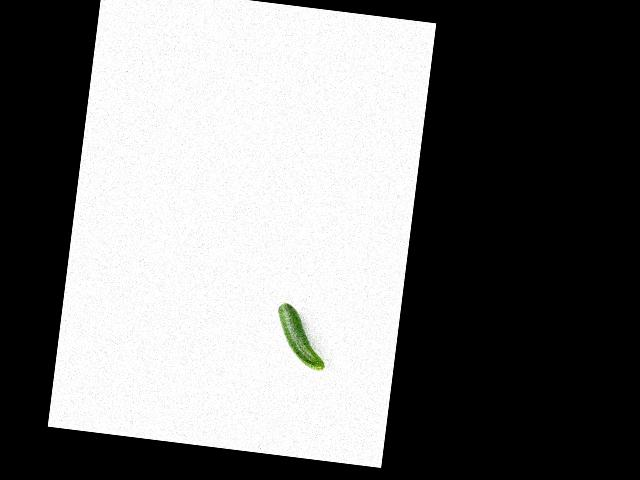cucumber: (271, 302, 332, 370)
